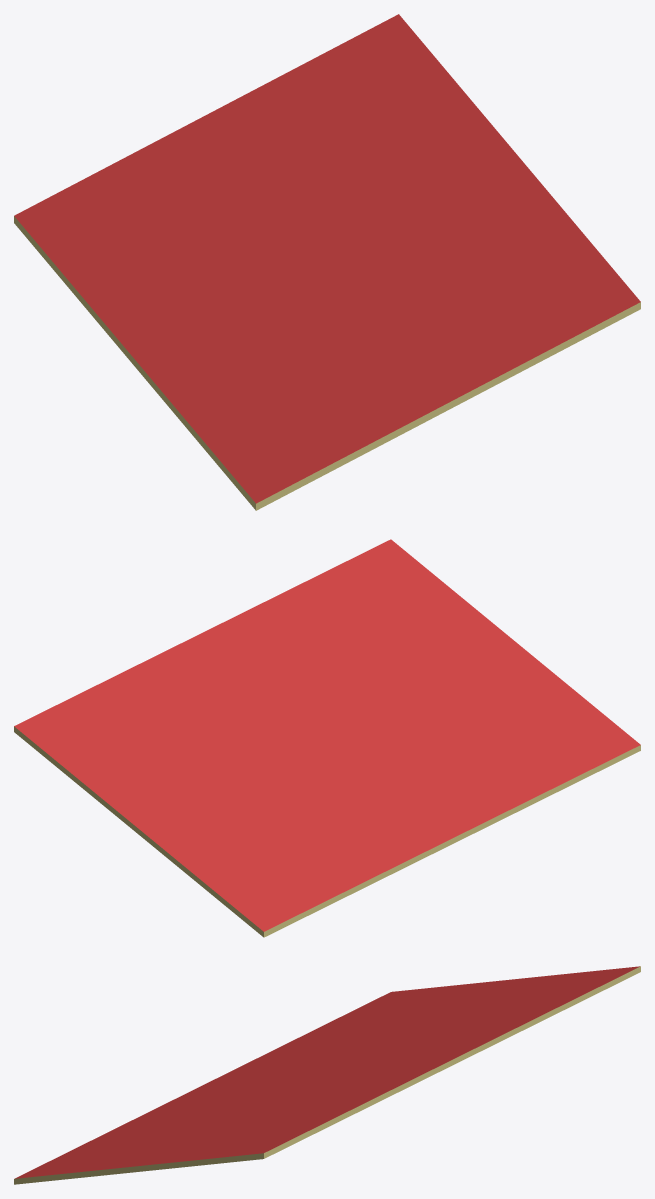
3 renders of one model, top to bottom at view 1: azimuth 30°, elevation 25°; view 2: azimuth 150°, elevation 25°; view 3: azimuth 330°, elevation 25°, orthographic. The views are drawn at different scales.
Size of the model in its own units: 6.68 by 9.84 by 2.09.
